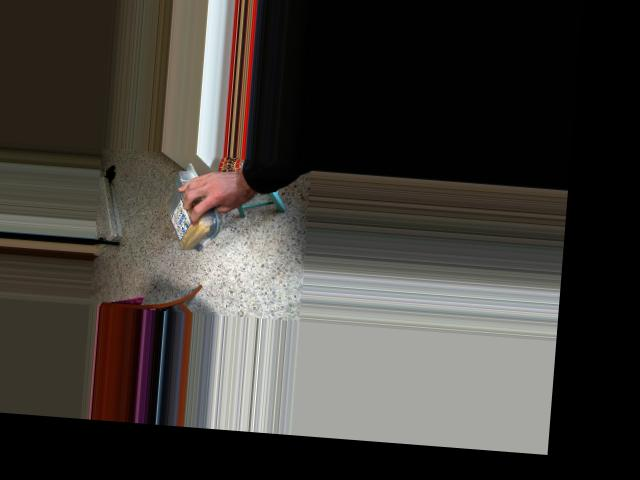cheese: (166, 162, 216, 252)
